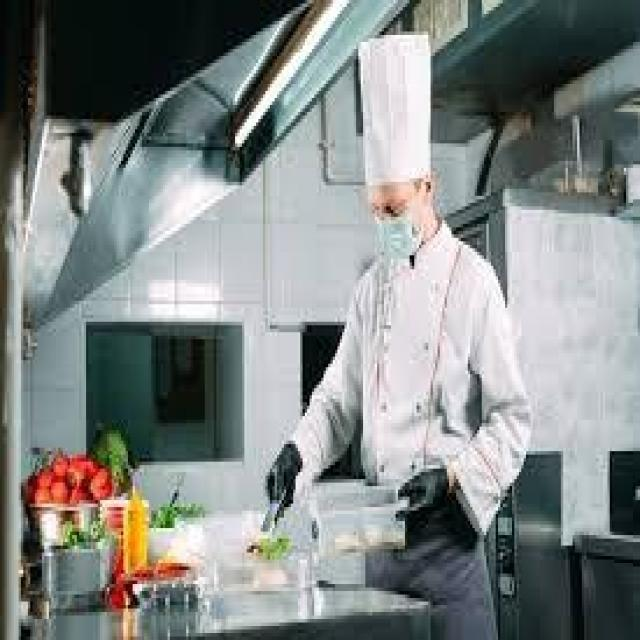apron: (250, 434, 298, 514), (390, 464, 448, 520)
